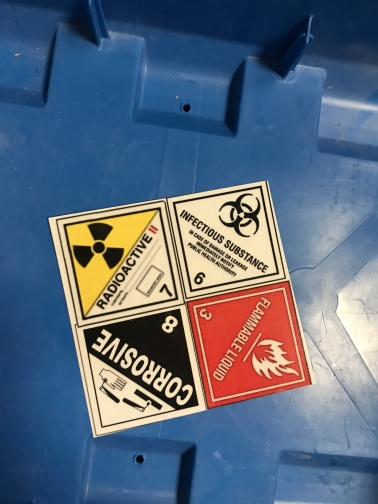Corrosive: (75, 305, 206, 435)
FlammableLiquid: (187, 281, 312, 408)
InfectiousSubstance: (174, 186, 286, 297)
Radioactive: (57, 202, 188, 327)
